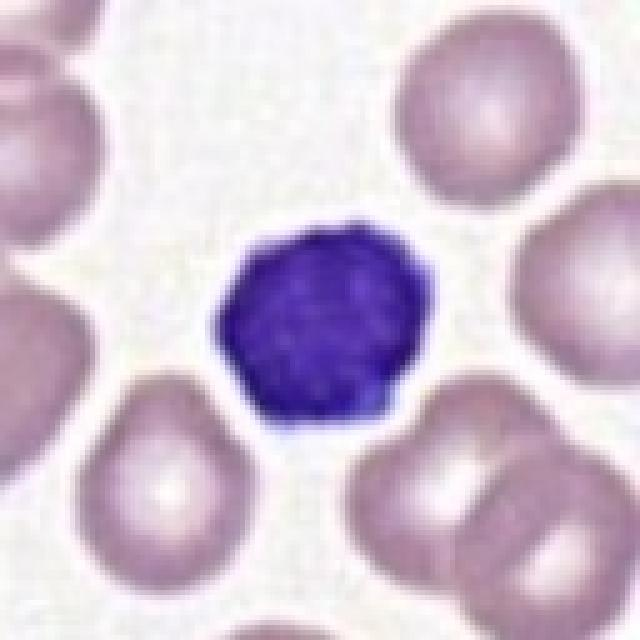lympho: (206, 210, 439, 433)
